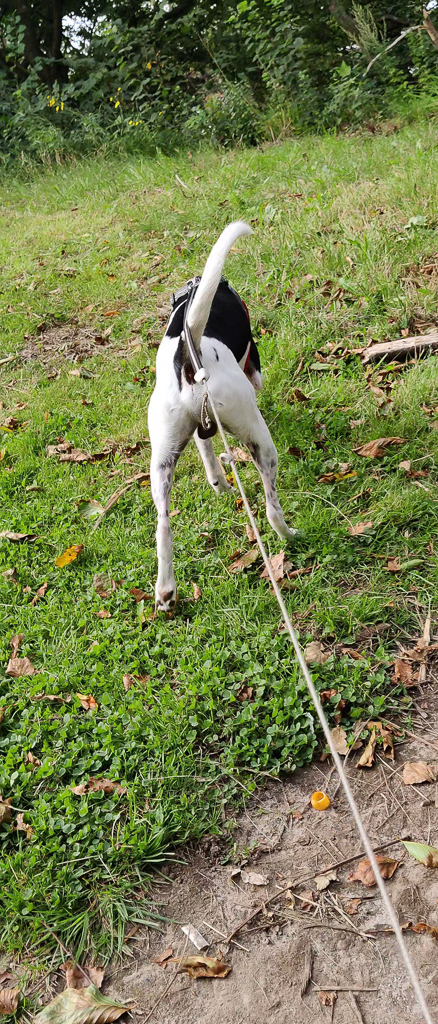Dog: (123, 210, 345, 635)
